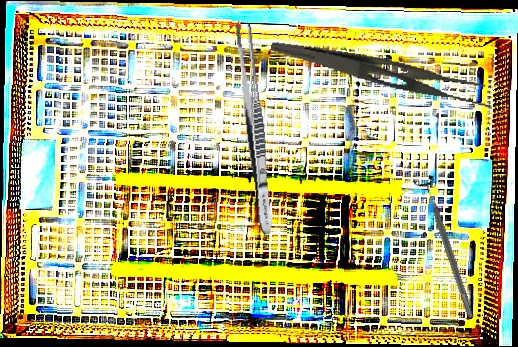Dressing Forceps: (266, 40, 497, 112), (231, 22, 278, 236)
Fixation Ring: (412, 173, 482, 322)
